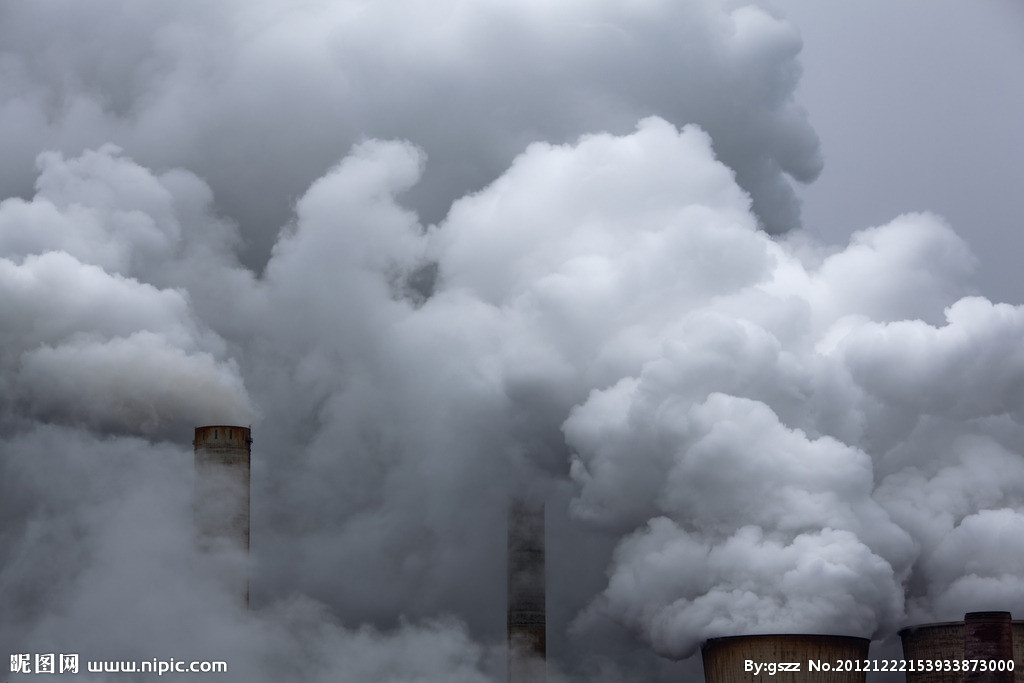dust: (589, 411, 890, 658), (7, 259, 260, 458), (866, 336, 1020, 645)
